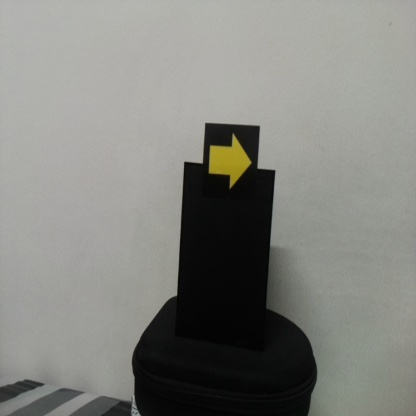id_3: (205, 124, 259, 197)
